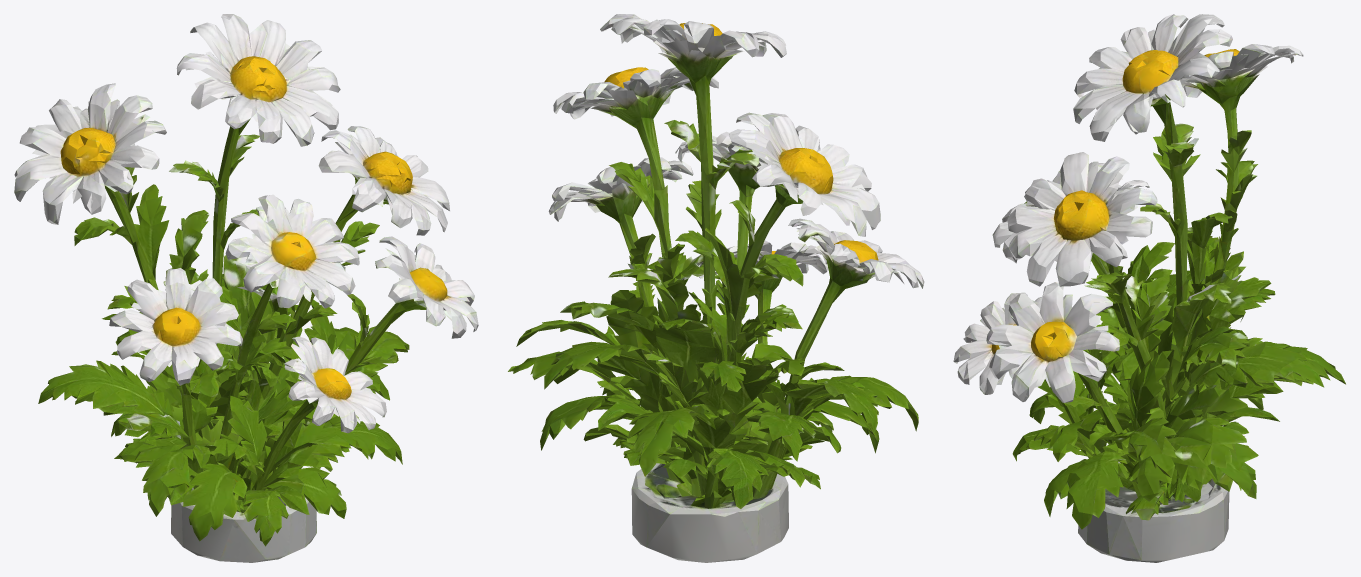
The model's file is daisies.glb.
3 renders of one model, left to right at view 1: azimuth 30°, elevation 25°; view 2: azimuth 150°, elevation 25°; view 3: azimuth 270°, elevation 25°, orthographic. The views are drawn at different scales.
Visible parts, largest first — view 1: Mesh_0; view 2: Mesh_0; view 3: Mesh_0.
Part boxes in pixels (x1=…): Mesh_0: x1=14, y1=14, x2=478, y2=562; Mesh_0: x1=508, y1=14, x2=924, y2=562; Mesh_0: x1=953, y1=14, x2=1345, y2=562.
Bounding box in the file's own units: 1.49 × 1.9 × 1.33.
Materials: 1 (1 with a texture image).
